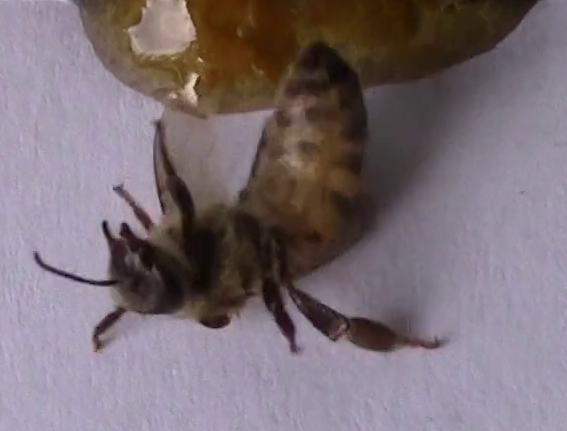Varroa destructor: (194, 309, 238, 336)
